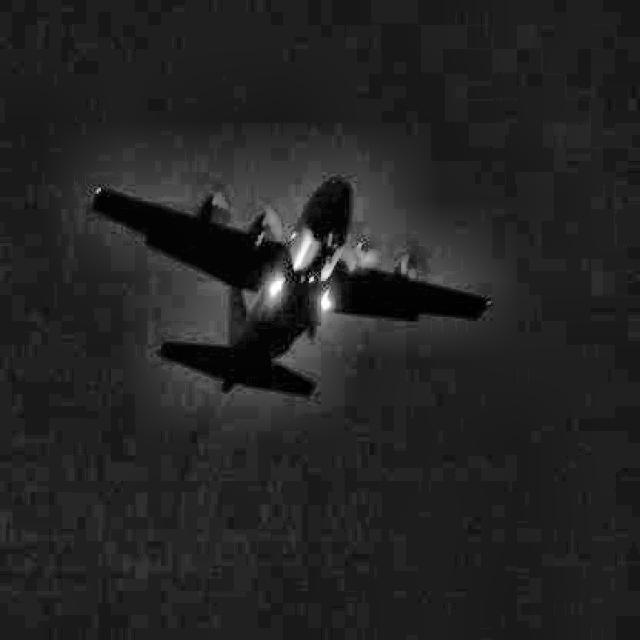C130: (93, 176, 490, 398)
